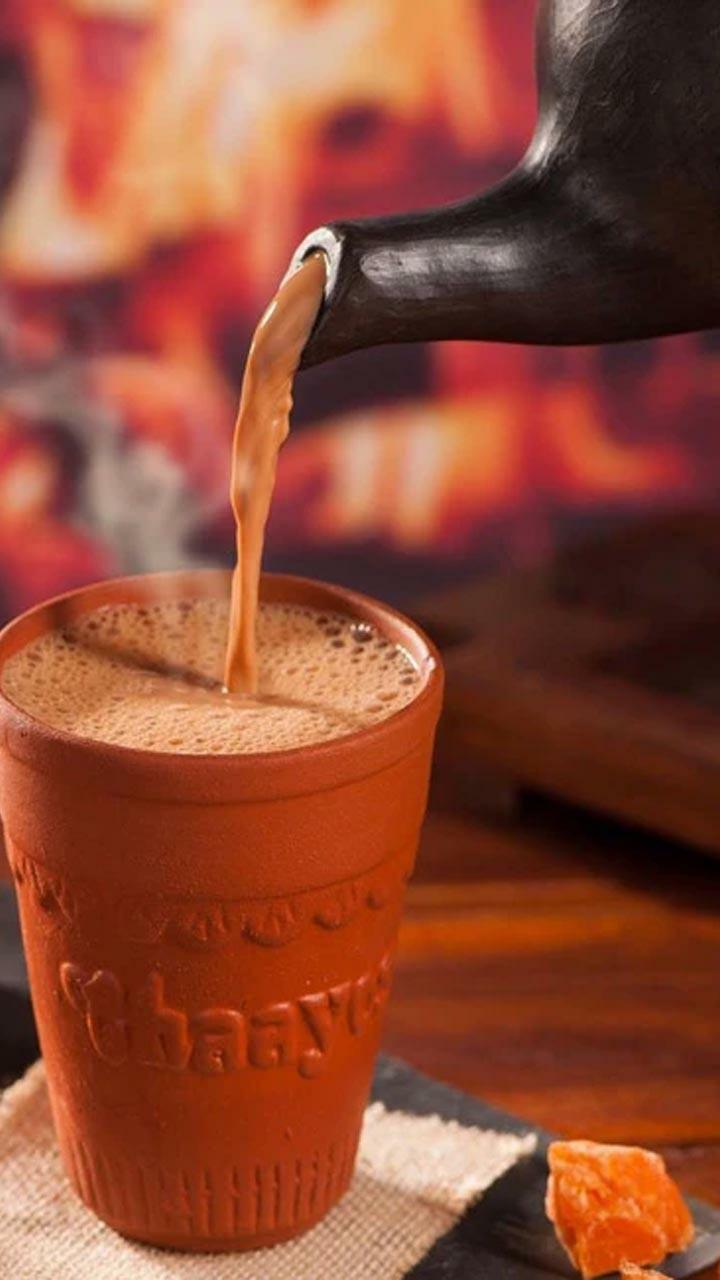Chai: (0, 594, 407, 758), (217, 250, 320, 701)
